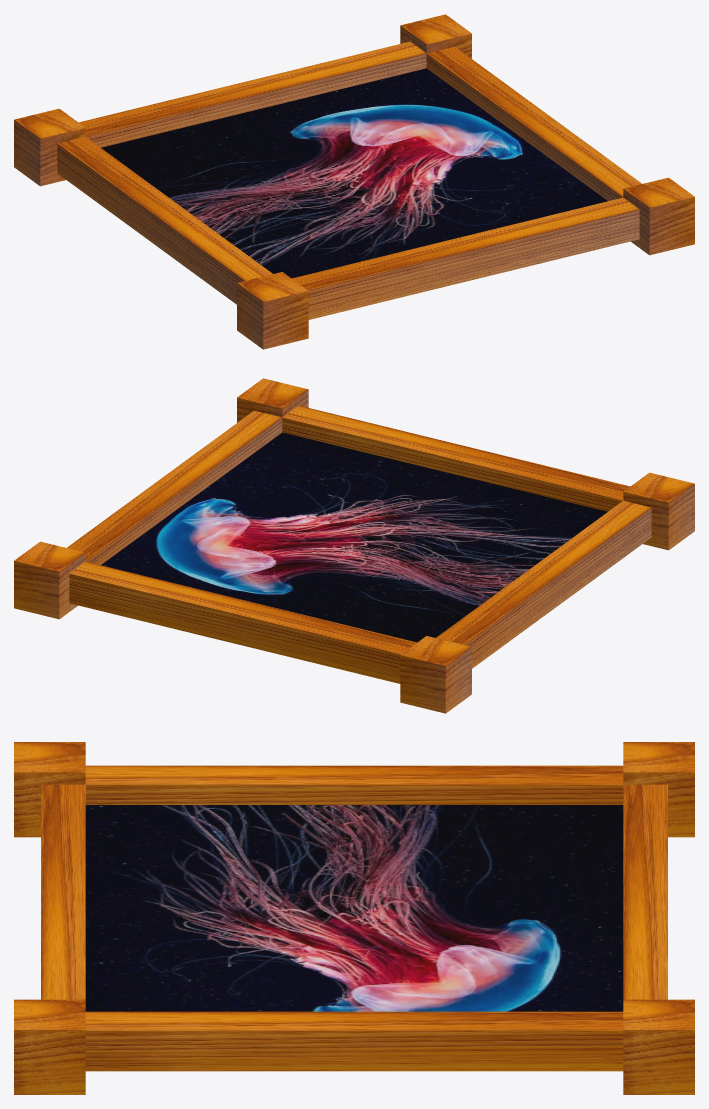
File: Meduza.fbx
3 renders of one model, top to bottom at view 1: azimuth 30°, elevation 25°; view 2: azimuth 150°, elevation 25°; view 3: azimuth 270°, elevation 25°, orthographic. The views are drawn at different scales.
Parts seen in each view (by area): view 1: Meduza; view 2: Meduza; view 3: Meduza.
Boxes of the visible parts, bbox=[...] form: Meduza: bbox=[14, 14, 694, 349]; Meduza: bbox=[14, 378, 694, 713]; Meduza: bbox=[14, 742, 694, 1094].
Size of the model in its own units: 76 by 8 by 76.
